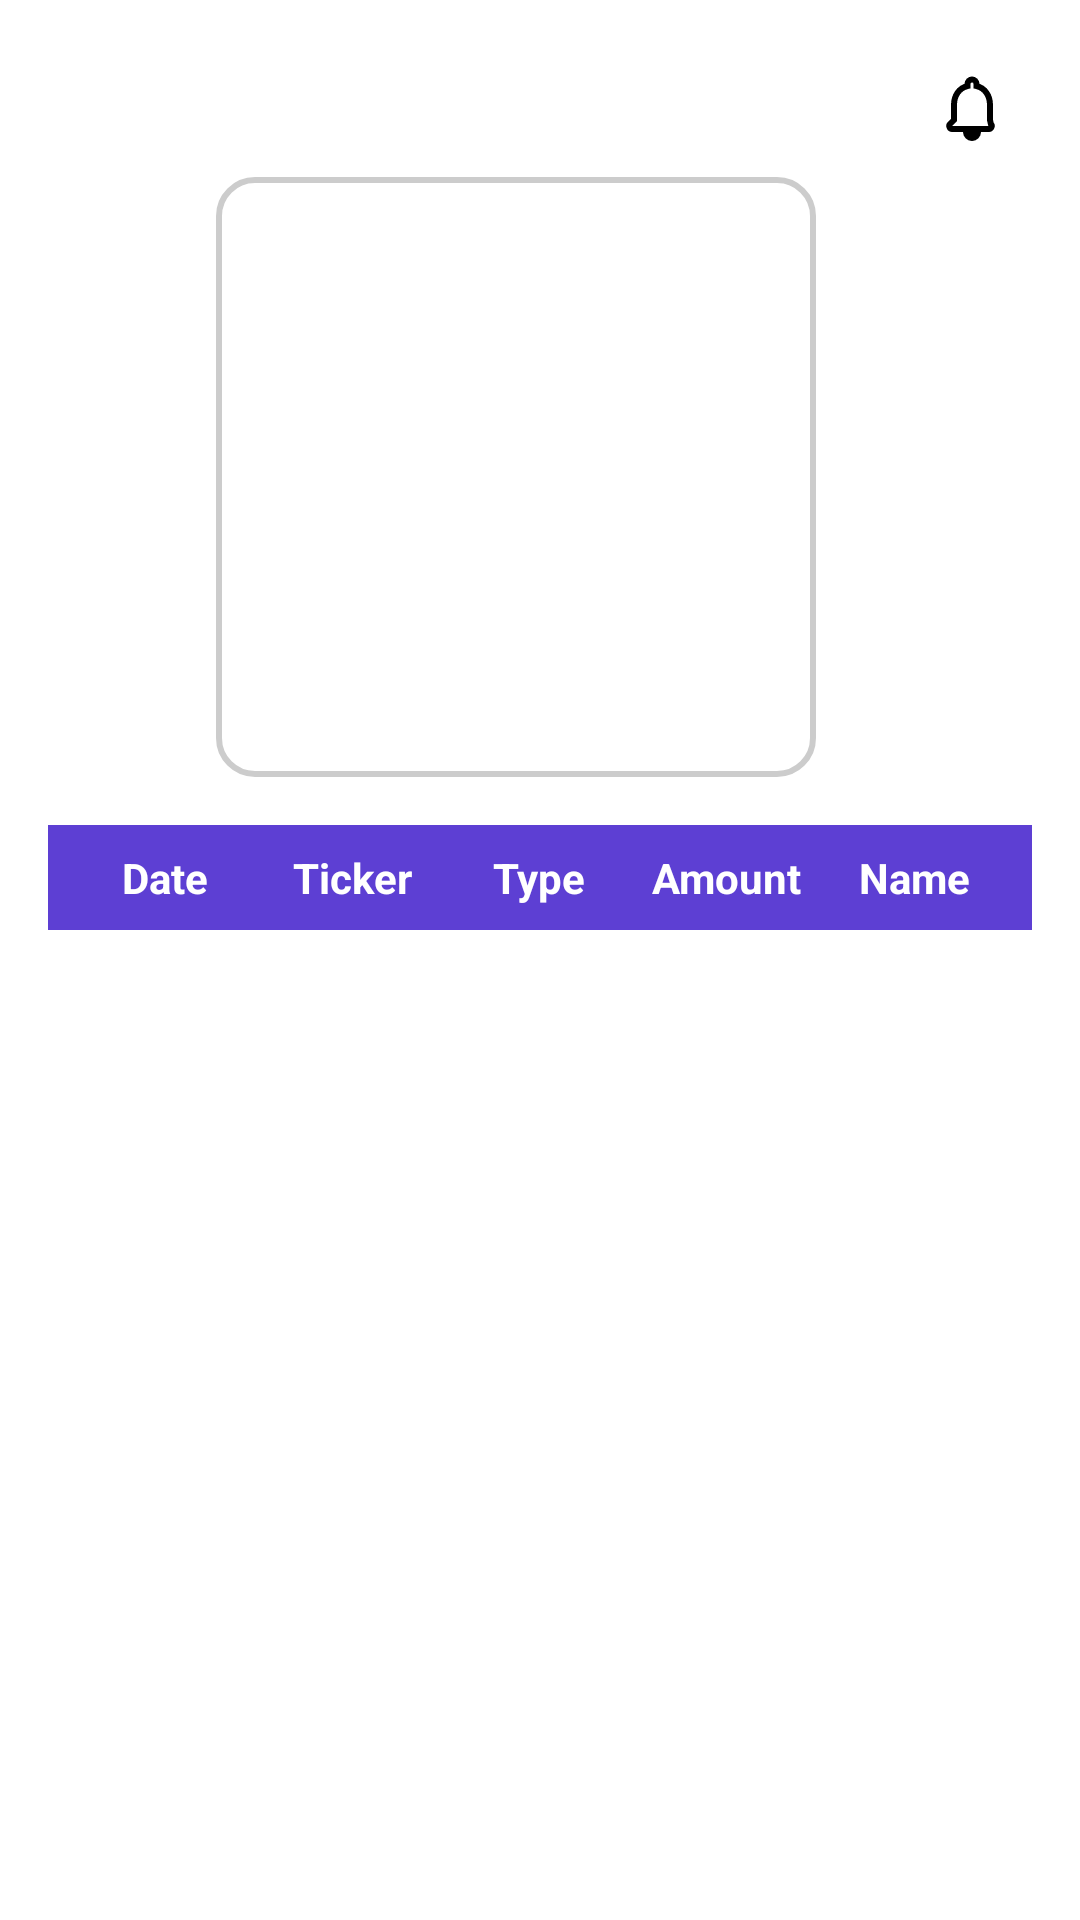

Icon click points for this 1080 x 1920 phone screenshot, format [x,y]:
Notifications: [970,108]
